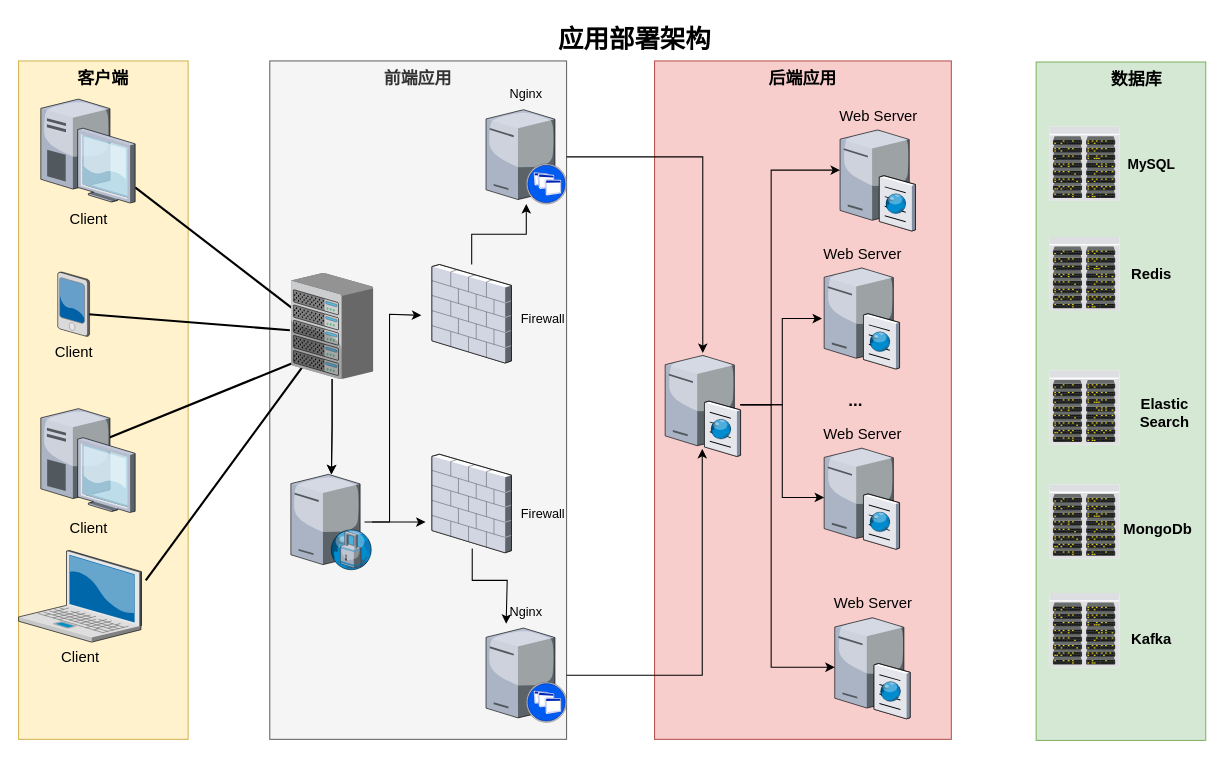
Some shapes in this 1229 by 759 pixel diagram are drawn without their labels. Here are the shapes that lost their labels. From the top down, the centre of each, then its label:
At [331,325]: "DNS".
At [702,404]: "Gateway".
At [330,521]: "Secure Server".
